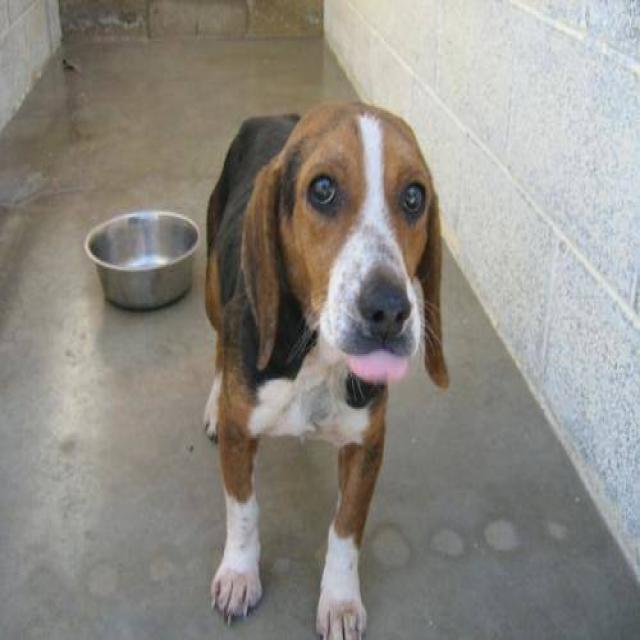dog: (201, 97, 450, 640)
